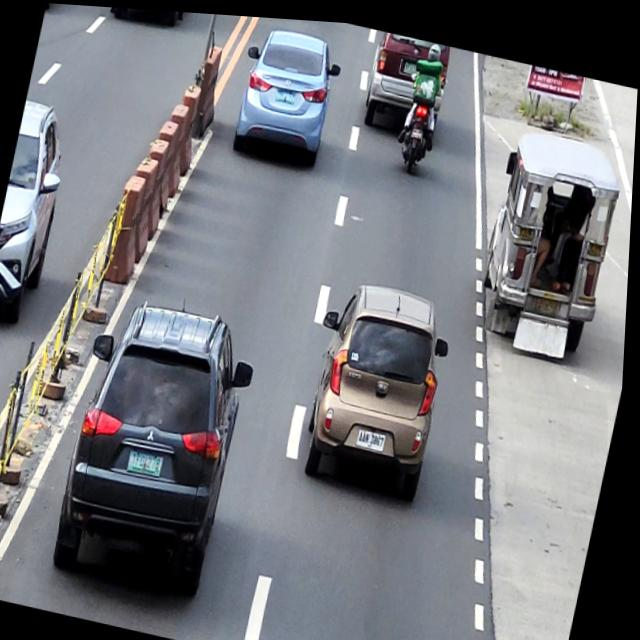Car: (52, 282, 268, 601), (295, 267, 462, 497), (0, 95, 78, 327), (228, 17, 347, 166), (361, 25, 454, 134)
Jeep: (471, 114, 631, 359)
License-Plate: (129, 444, 170, 476), (360, 423, 391, 446), (275, 81, 298, 101), (403, 54, 419, 70)
Motorcycle: (391, 61, 448, 171)
